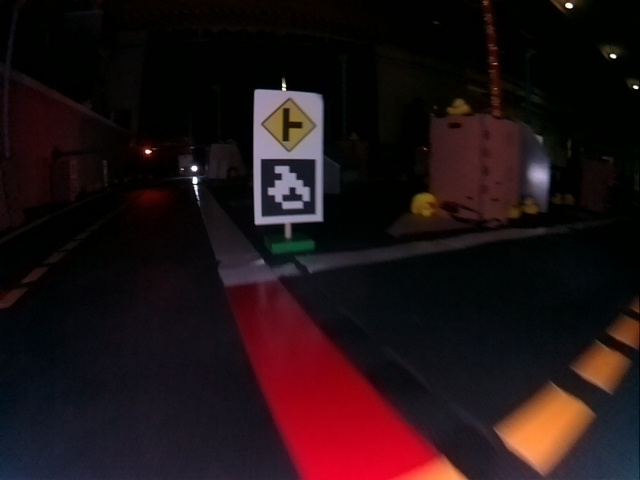Duckie: (411, 191, 435, 216), (447, 99, 470, 114), (523, 197, 539, 214)
Duckiebot: (179, 164, 199, 175)
Intersection sign: (257, 95, 319, 153)
QR code: (257, 157, 318, 220)
Traffic light: (144, 148, 154, 156)
